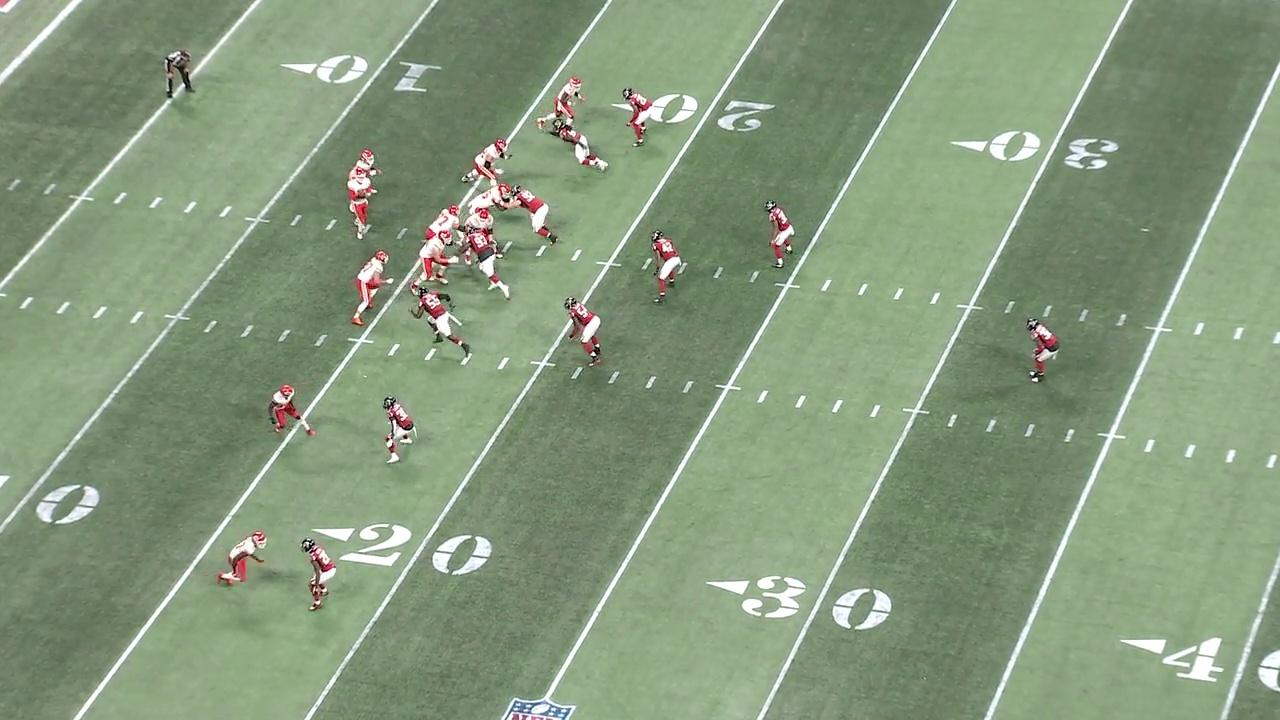player: (452, 223, 514, 303), (409, 287, 474, 362), (492, 184, 560, 247), (213, 527, 270, 591), (546, 119, 612, 174), (409, 229, 461, 298), (350, 247, 395, 326), (561, 294, 605, 368), (376, 394, 418, 470), (263, 382, 318, 440), (535, 74, 586, 134), (460, 136, 515, 189), (302, 536, 336, 619), (648, 229, 683, 306), (459, 207, 504, 266), (346, 147, 384, 216), (1025, 316, 1061, 385), (762, 196, 795, 269), (619, 86, 656, 149), (345, 167, 373, 241), (465, 181, 514, 216), (424, 202, 462, 242)
ref: (161, 47, 198, 101)
